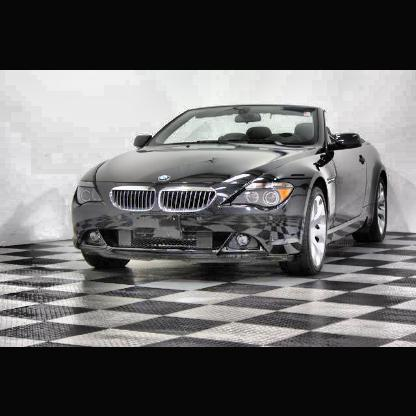BMW 6 Series Convertible 2007: (72, 102, 391, 282)
